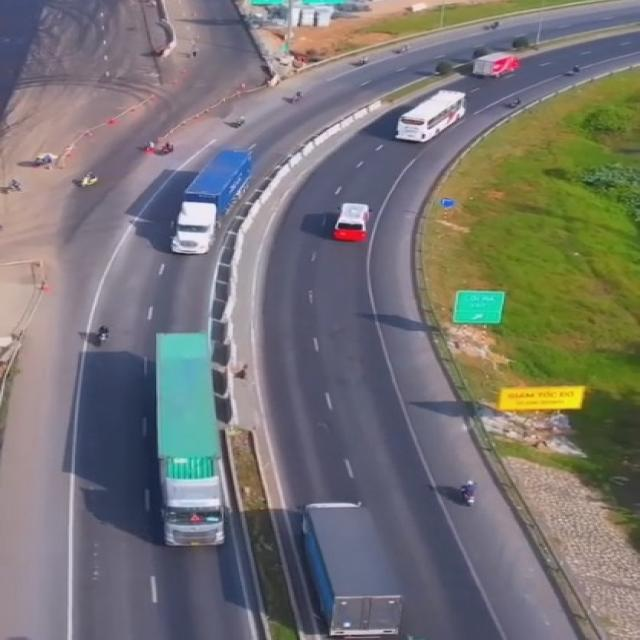bus: (392, 88, 467, 148), (332, 204, 372, 247)
motorbike: (472, 50, 516, 81), (457, 482, 478, 511), (90, 323, 112, 348)
truck: (150, 330, 230, 550), (296, 500, 409, 639), (177, 151, 250, 254)
